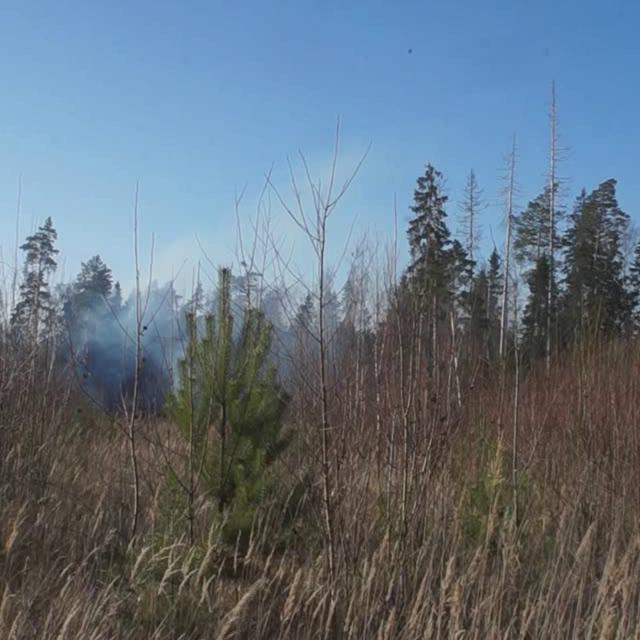Smoke: (66, 182, 348, 418)
